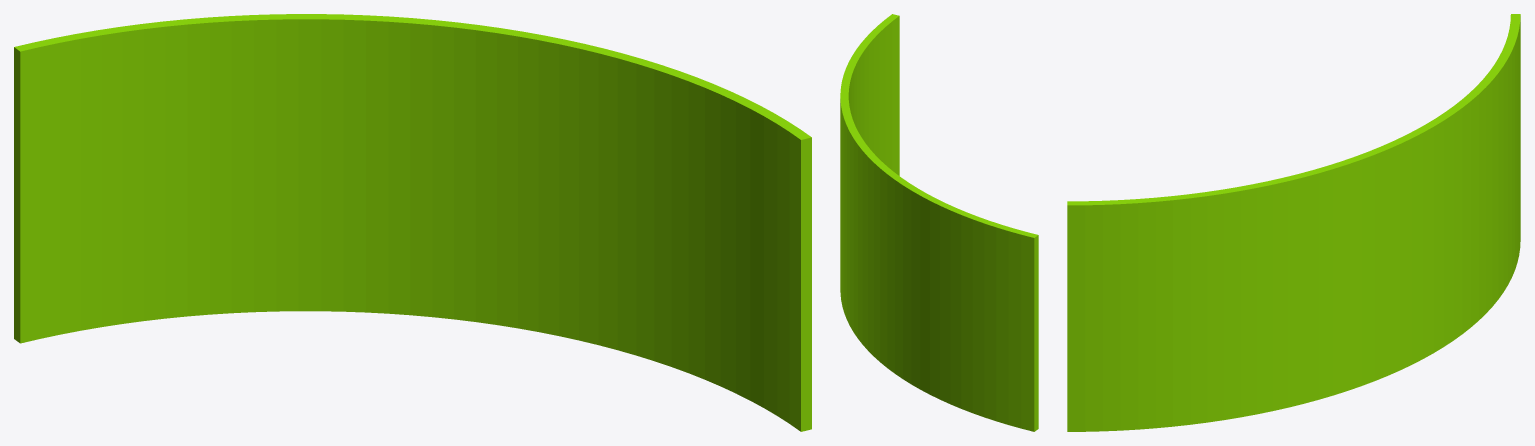
The model's file is Wall_03_Half_Bend_03.fbx.
The picture shows the model from 3 angles, left to right: view 1: azimuth 30°, elevation 25°; view 2: azimuth 150°, elevation 25°; view 3: azimuth 270°, elevation 25°; orthographic projection. The views are drawn at different scales.
Visible parts, largest first — view 1: Wall_03_Half_Bend_03; view 2: Wall_03_Half_Bend_03; view 3: Wall_03_Half_Bend_03.
Part boxes in pixels (x1,y1,x2,y2): Wall_03_Half_Bend_03: (14, 14, 811, 431); Wall_03_Half_Bend_03: (840, 14, 1038, 431); Wall_03_Half_Bend_03: (1067, 14, 1520, 431).
Size of the model in its own units: 1038 by 572 by 1038.
